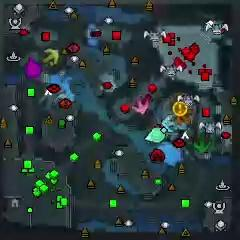Other: (172, 101, 188, 117)
p2: (145, 127, 167, 143)
p3: (25, 56, 42, 79)
x1: (133, 99, 149, 115)
x2: (43, 48, 60, 65)
x3: (162, 114, 179, 131)
x4: (193, 133, 211, 153)
x5: (175, 108, 193, 125)
